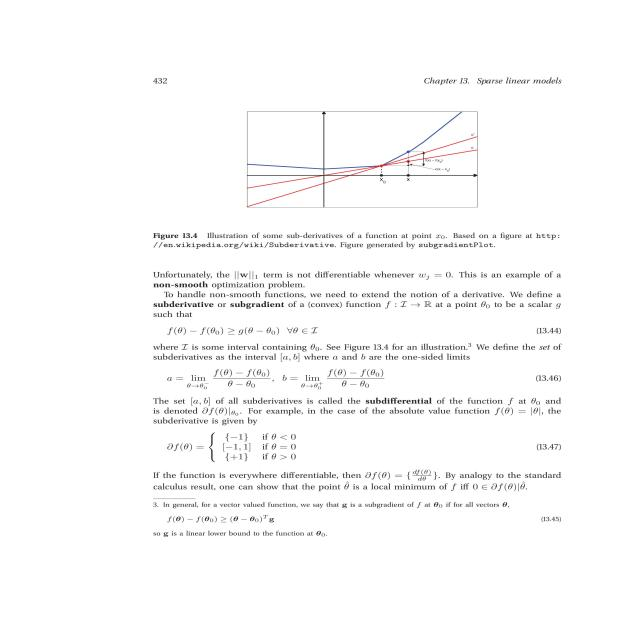diagram: (113, 101, 627, 258)
